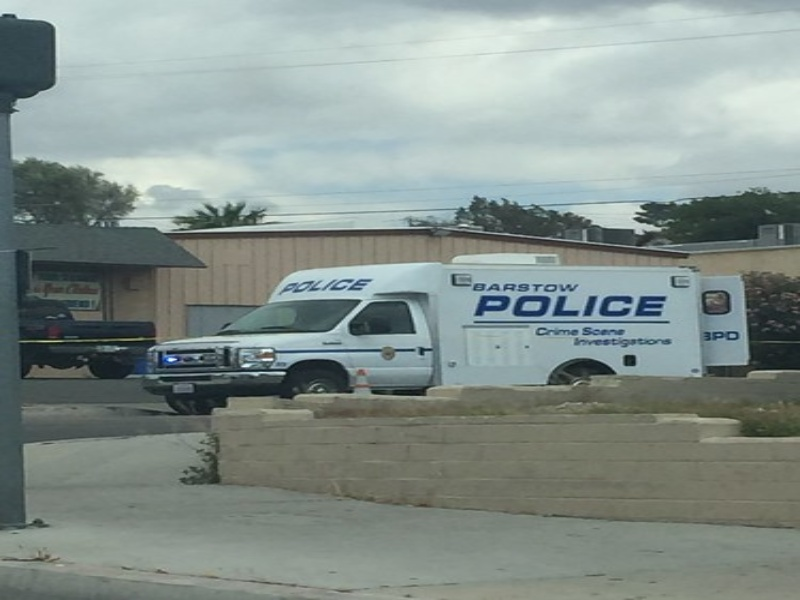policecar: (142, 247, 773, 408)
